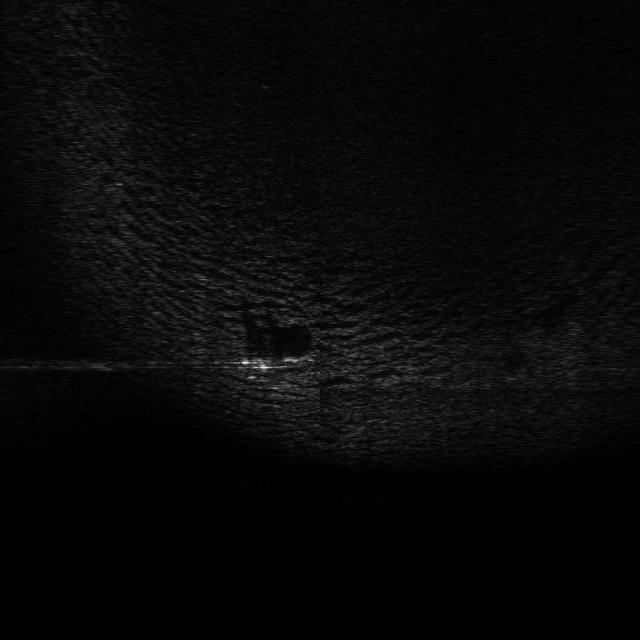plane: (237, 354, 317, 382)
